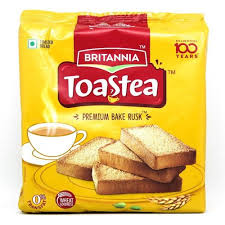Britania-toast-small: (19, 10, 207, 213)
